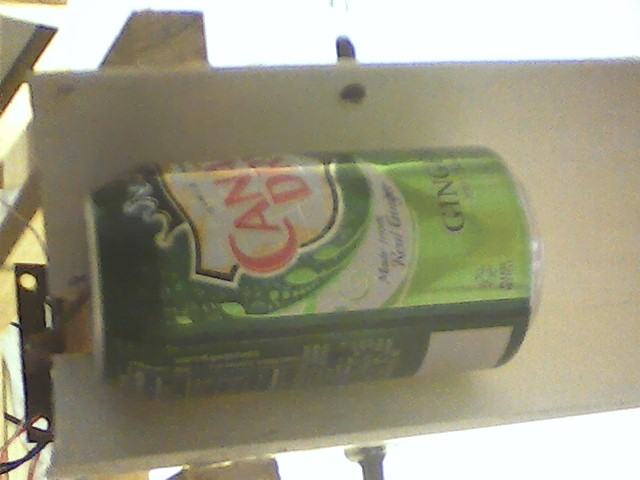lata: (82, 142, 549, 410)
